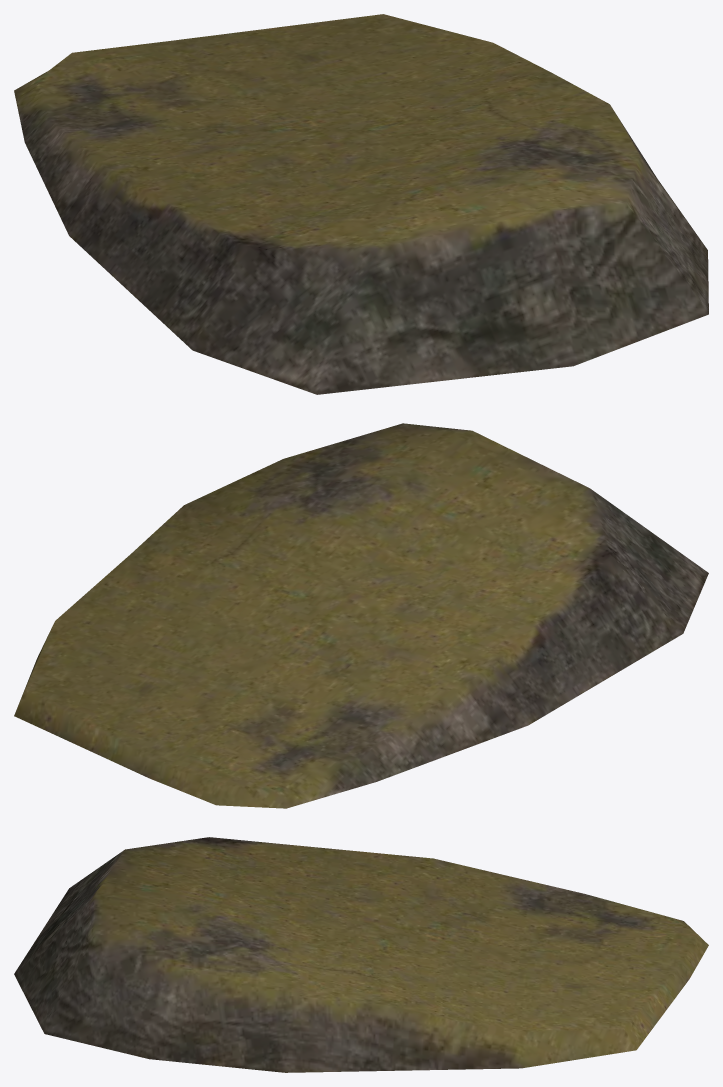
Rendered from Custom_Model_0193c0-transformed.glb.
3 renders of one model, top to bottom at view 1: azimuth 30°, elevation 25°; view 2: azimuth 150°, elevation 25°; view 3: azimuth 270°, elevation 25°, orthographic. The views are drawn at different scales.
Visible parts, largest first — view 1: Hill_01; view 2: Hill_01; view 3: Hill_01.
Part boxes in pixels (x1,y1,x2,y2): Hill_01: (14, 14, 708, 394); Hill_01: (14, 423, 708, 808); Hill_01: (14, 837, 708, 1072).
Bounding box in the file's own units: 8.62 × 1.73 × 12.46.
Materials: 1 (1 with a texture image).
